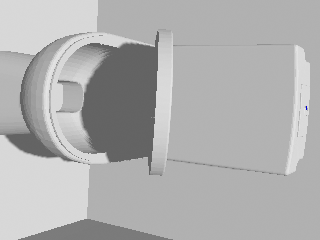lid_1: (149, 30, 172, 175)
